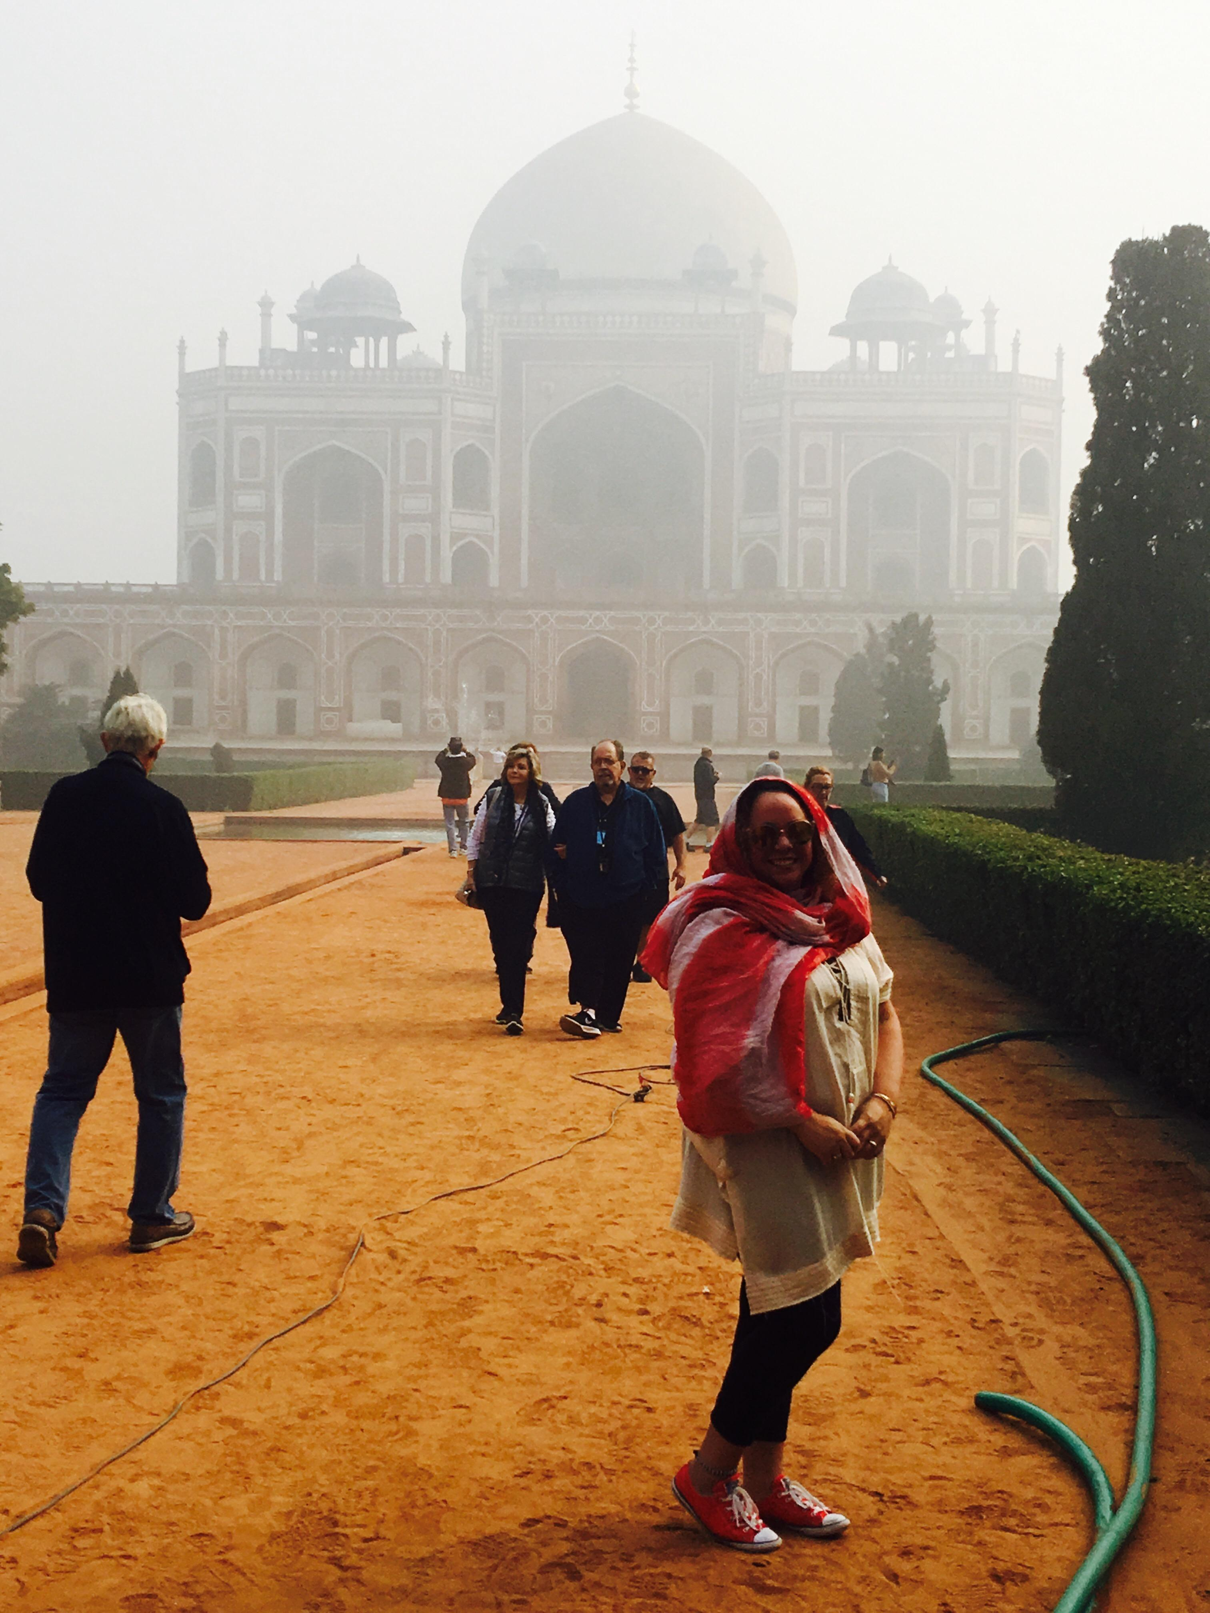backpack: (646, 782, 900, 1454), (656, 845, 867, 1233), (711, 895, 880, 1167), (657, 899, 787, 1143), (648, 884, 817, 1052), (454, 753, 551, 1023), (548, 749, 650, 993), (644, 863, 841, 986), (633, 884, 746, 1082), (800, 916, 883, 1153), (629, 827, 732, 1001), (642, 884, 769, 996), (481, 768, 551, 950), (457, 772, 531, 934), (800, 765, 884, 904), (553, 747, 638, 882), (674, 881, 824, 953), (467, 754, 557, 871), (567, 792, 657, 901), (586, 808, 699, 895), (635, 881, 710, 1004), (623, 757, 679, 909), (446, 767, 499, 918), (559, 788, 619, 912), (561, 787, 667, 854), (474, 789, 546, 889), (541, 774, 598, 902), (648, 798, 717, 890), (673, 763, 722, 892), (804, 795, 857, 906), (463, 782, 514, 894), (645, 783, 689, 897), (588, 797, 629, 901), (503, 795, 541, 893), (434, 737, 473, 832), (495, 786, 554, 846), (670, 824, 720, 894), (627, 773, 676, 842), (518, 785, 558, 869), (496, 768, 556, 814), (441, 747, 482, 810), (512, 783, 561, 833), (427, 746, 462, 809), (536, 785, 563, 855), (452, 865, 485, 913)
baseball glove: (452, 863, 483, 913)
bench: (670, 821, 720, 891), (342, 721, 400, 742)
bicycle: (428, 737, 483, 861), (648, 798, 717, 890), (645, 783, 689, 897), (670, 821, 720, 891), (437, 761, 470, 860), (451, 784, 481, 858)
bottle: (837, 1096, 889, 1259), (806, 1102, 889, 1160), (847, 1098, 894, 1162)
bus: (477, 100, 815, 995)
car: (664, 769, 890, 910), (624, 758, 690, 893), (673, 763, 722, 892), (529, 743, 599, 811), (661, 816, 721, 895), (342, 721, 400, 742)
cell phone: (806, 1109, 881, 1160), (848, 1098, 893, 1162)
chair: (843, 1104, 889, 1252), (648, 798, 717, 890), (627, 753, 684, 858), (680, 753, 725, 887), (670, 821, 720, 891), (653, 800, 688, 892)
cup: (847, 1098, 894, 1162)
handbag: (646, 782, 900, 1454), (658, 856, 864, 1244), (771, 860, 906, 1245), (711, 895, 880, 1167), (714, 986, 886, 1250), (664, 896, 846, 1099), (688, 1103, 892, 1280), (650, 908, 760, 1228), (795, 814, 887, 1139), (560, 755, 664, 1017), (454, 753, 551, 1023), (633, 884, 746, 1082), (640, 881, 824, 1000), (802, 949, 883, 1199), (818, 1054, 897, 1268), (548, 768, 649, 929), (629, 846, 718, 1006), (481, 768, 551, 950), (800, 765, 884, 904), (644, 885, 742, 994), (687, 874, 830, 946), (582, 762, 656, 898), (623, 757, 679, 909), (812, 1144, 874, 1277), (462, 796, 536, 906), (833, 1129, 888, 1276), (811, 798, 871, 929), (558, 803, 638, 897), (541, 774, 598, 902), (650, 784, 710, 898), (673, 763, 722, 892), (845, 1097, 891, 1231), (453, 789, 502, 911), (634, 886, 692, 989), (512, 788, 556, 908), (457, 834, 517, 907), (815, 1101, 889, 1160), (434, 739, 474, 846), (465, 782, 509, 877), (493, 799, 535, 895), (846, 1155, 883, 1256), (846, 1097, 893, 1167), (461, 858, 537, 901), (653, 800, 688, 892), (639, 768, 678, 848), (672, 822, 720, 887), (450, 843, 495, 910), (688, 749, 724, 827), (677, 794, 716, 870), (458, 806, 488, 899), (507, 792, 541, 871), (441, 747, 482, 810), (459, 866, 511, 910), (462, 787, 491, 860), (452, 865, 485, 913)
horse: (670, 822, 720, 897)
motorcycle: (650, 784, 710, 898), (670, 802, 721, 894), (859, 749, 897, 811)
person: (645, 785, 905, 1574), (511, 771, 768, 1388), (78, 684, 303, 1237), (466, 713, 788, 1084), (14, 686, 210, 1280), (638, 764, 876, 1202), (728, 770, 916, 1267), (430, 717, 642, 1107), (579, 745, 823, 1054), (559, 748, 729, 1143), (629, 823, 783, 1181), (548, 739, 671, 1046), (502, 741, 624, 1044), (520, 407, 693, 599), (766, 810, 876, 1112), (678, 808, 863, 986), (536, 458, 674, 687), (635, 805, 758, 1057), (459, 747, 562, 1040), (569, 821, 707, 1033), (793, 765, 891, 1045), (727, 769, 887, 929), (805, 851, 893, 1136), (7, 659, 131, 848), (644, 871, 819, 994), (591, 741, 687, 959), (644, 750, 785, 892), (620, 784, 708, 1004), (546, 753, 653, 920), (698, 775, 846, 888), (777, 785, 868, 968), (531, 473, 659, 596), (452, 742, 551, 884), (0, 673, 82, 815), (823, 813, 890, 991), (801, 768, 884, 902), (582, 748, 660, 884), (650, 750, 721, 896), (633, 866, 708, 993), (551, 743, 649, 839), (620, 774, 674, 946), (616, 847, 675, 1001), (746, 763, 826, 869), (699, 760, 773, 876), (834, 758, 896, 893), (623, 754, 685, 882), (790, 784, 851, 912), (811, 798, 871, 929), (541, 774, 598, 902), (637, 780, 694, 904), (714, 750, 785, 842), (453, 787, 504, 910), (726, 771, 808, 849), (446, 743, 497, 867), (44, 699, 106, 799), (98, 673, 159, 773), (77, 671, 135, 775), (645, 747, 711, 837), (690, 761, 738, 882), (432, 736, 479, 859), (824, 790, 878, 893), (680, 748, 721, 879), (700, 745, 766, 826), (853, 744, 899, 854), (462, 771, 510, 876), (616, 775, 667, 870), (511, 762, 561, 857), (670, 802, 721, 894), (801, 765, 877, 826), (734, 755, 802, 821), (797, 767, 845, 857), (492, 746, 559, 808), (69, 690, 116, 778), (731, 749, 816, 797), (627, 752, 676, 833), (758, 758, 815, 826), (448, 782, 486, 878), (738, 786, 803, 836), (649, 787, 687, 868), (667, 828, 708, 901), (655, 811, 689, 897), (687, 772, 727, 844), (725, 757, 768, 821), (678, 819, 724, 876), (699, 753, 731, 837), (690, 747, 720, 832), (751, 766, 792, 827), (755, 751, 800, 805), (703, 800, 735, 872), (737, 753, 784, 801), (876, 748, 912, 809), (861, 748, 896, 809), (462, 787, 491, 860), (74, 703, 103, 773), (463, 756, 492, 826), (621, 750, 657, 807), (591, 741, 626, 798), (438, 793, 468, 861), (100, 670, 137, 721), (536, 785, 563, 855), (681, 245, 734, 281), (800, 767, 833, 816), (533, 769, 564, 820), (924, 723, 948, 786), (976, 299, 998, 363), (750, 752, 790, 787)
potted plant: (840, 612, 954, 782), (875, 614, 948, 737), (826, 637, 891, 765), (924, 723, 948, 786)
remote: (848, 1098, 893, 1162)
skateboard: (437, 761, 470, 860)
stop sign: (824, 654, 883, 766)
suitcase: (670, 821, 720, 891)
tie: (507, 792, 541, 871), (596, 796, 620, 887)
wine glass: (834, 1096, 890, 1246), (822, 1099, 893, 1161)
